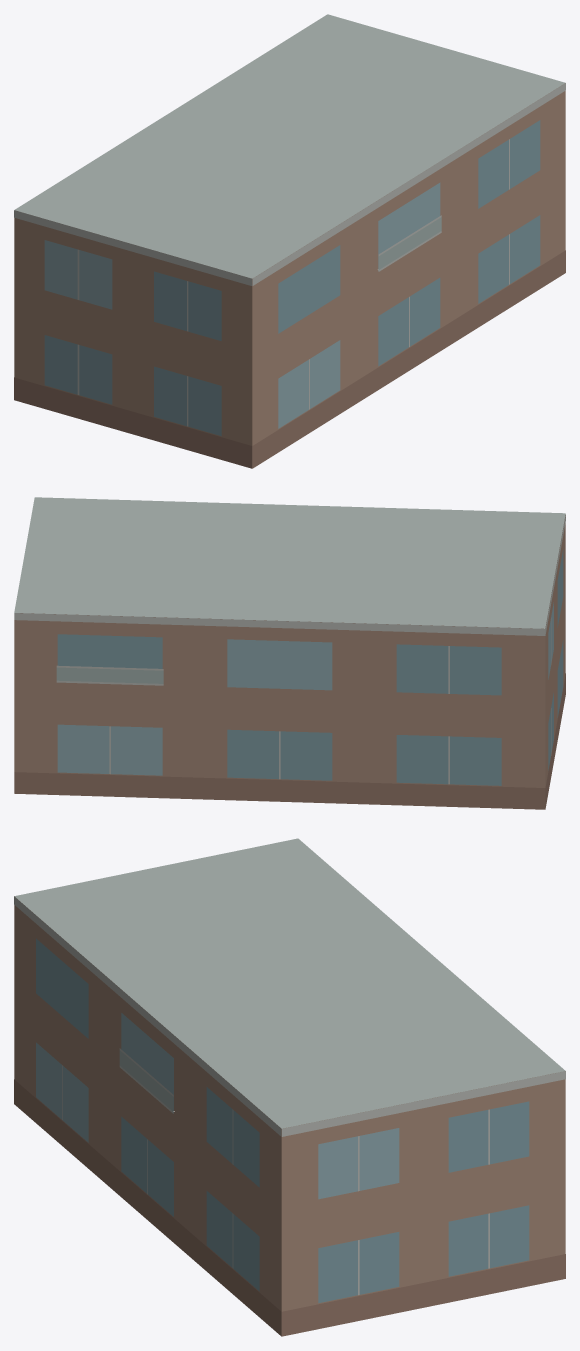
File: survey-upis-32704793.glb
The picture shows the model from 3 angles, top to bottom: view 1: azimuth 30°, elevation 25°; view 2: azimuth 150°, elevation 25°; view 3: azimuth 270°, elevation 25°; orthographic projection. The views are drawn at different scales.
Visible parts, largest first — view 1: survey-upis-32704793.tmp; view 2: survey-upis-32704793.tmp; view 3: survey-upis-32704793.tmp.
Part boxes in pixels (x1,y1,x2,y2): survey-upis-32704793.tmp: (14,14,565,468); survey-upis-32704793.tmp: (14,497,565,809); survey-upis-32704793.tmp: (14,838,565,1336).
Size of the model in its own units: 18.29 by 6.1 by 14.68.
